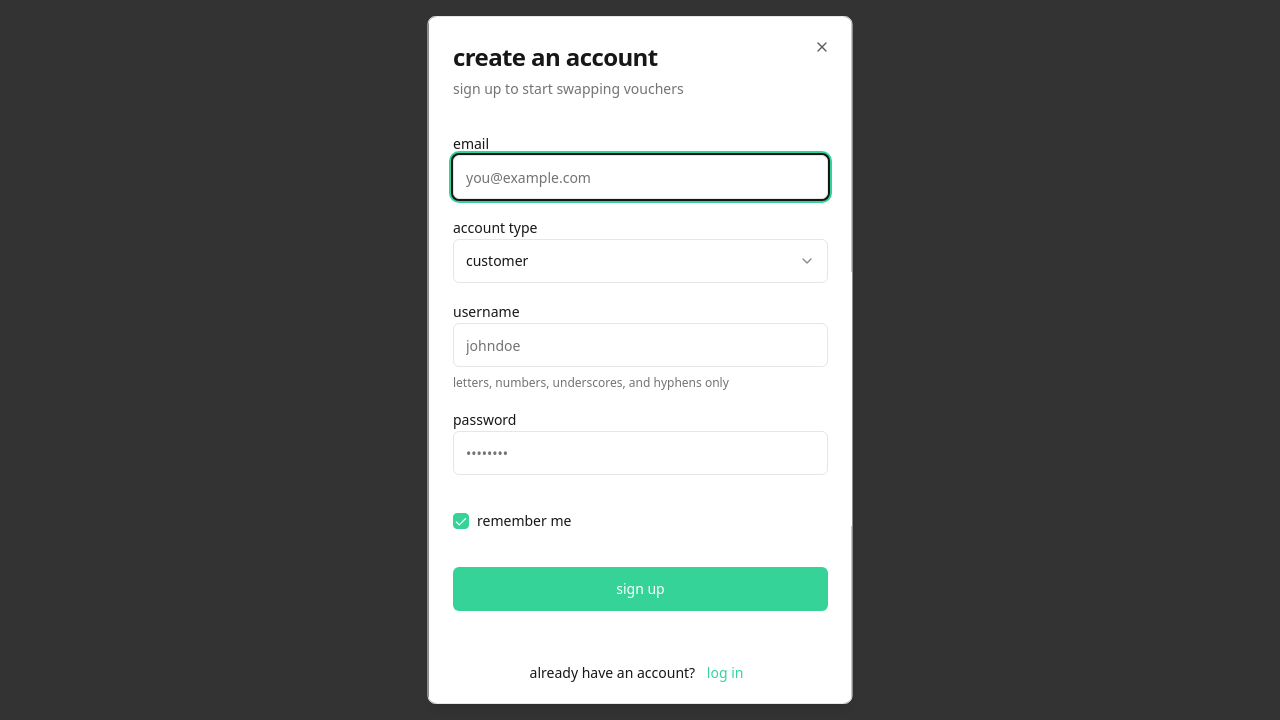
Test: AuthModal › requires passwords to have at least eight characters
Type "new@example.com" into the field labelled "email" at (640, 177), box [452,155,828,199]
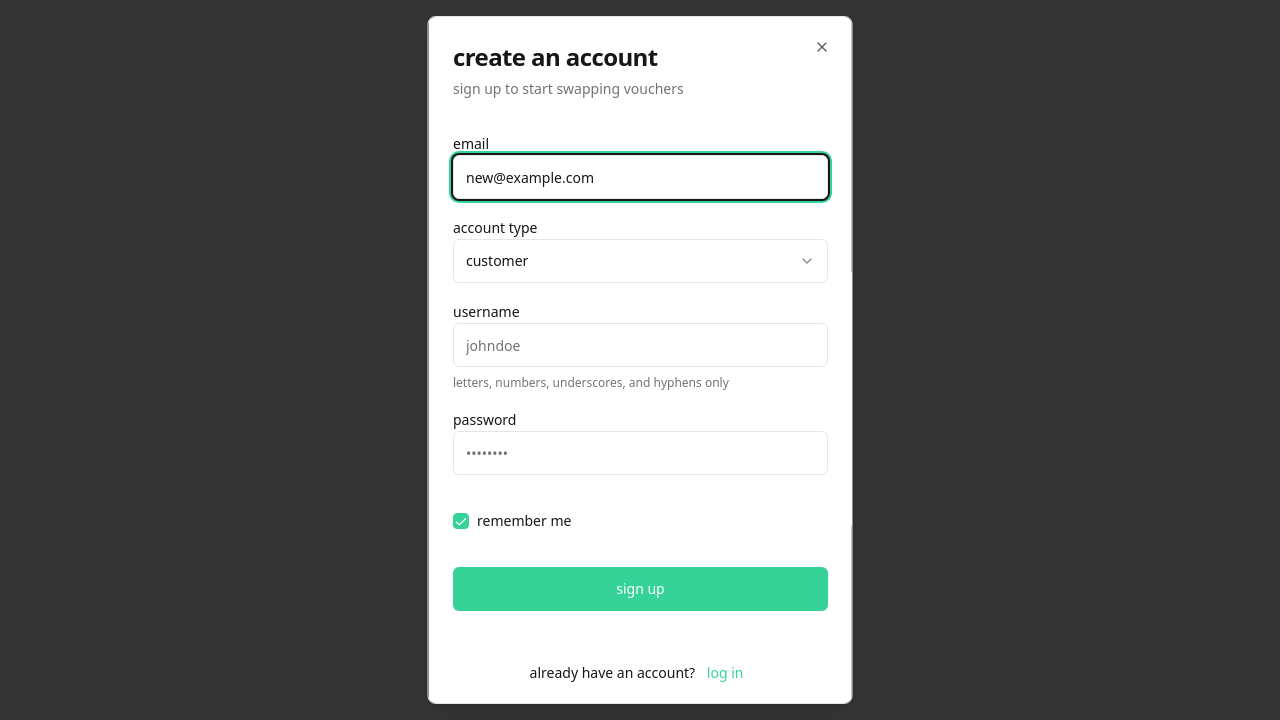
Type "newuser" into the field labelled "username" at (640, 345), box [452,323,828,367]
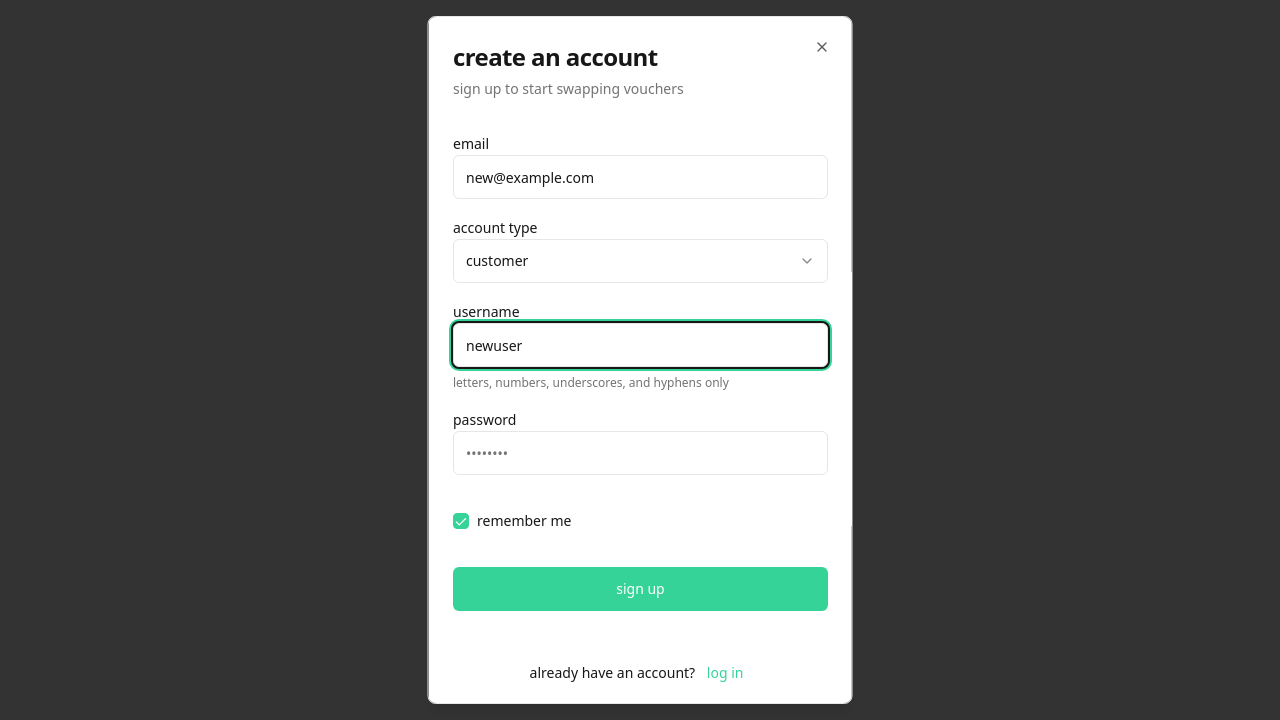
Type "1234567" into the password field labelled "password" at (640, 453), box [452,431,828,475]
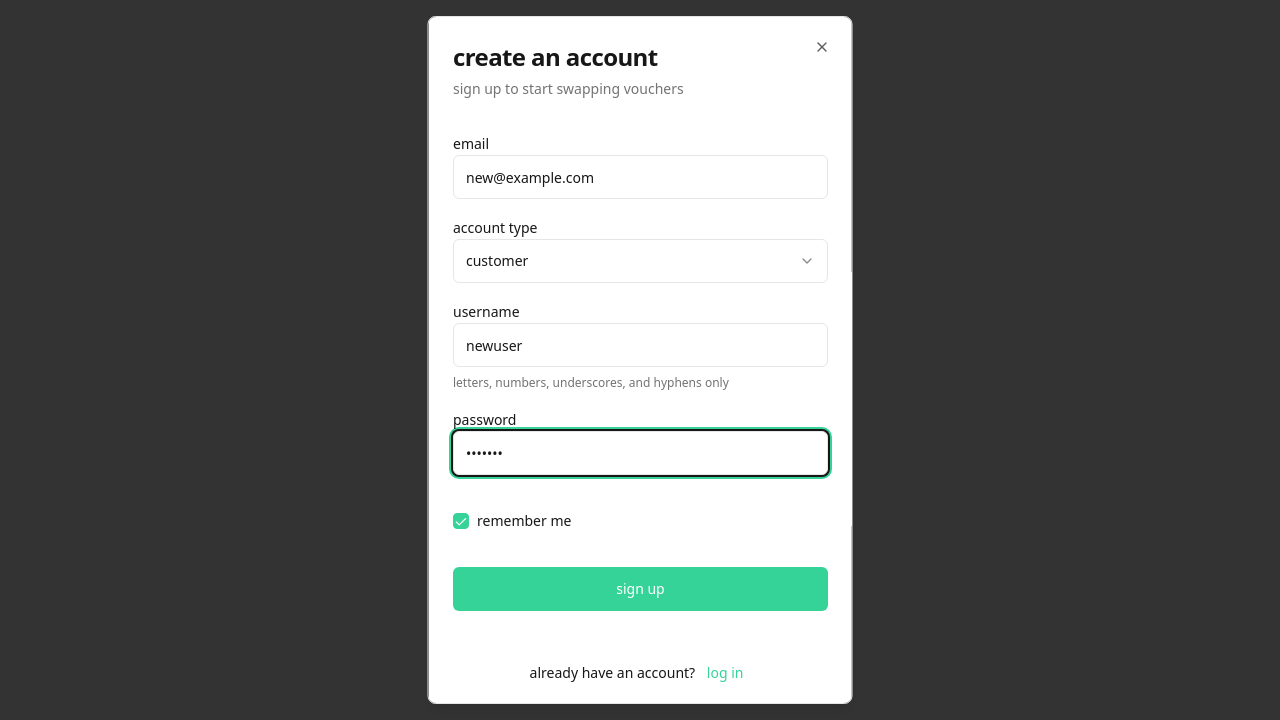
Submit the form, box [452,115,828,627]
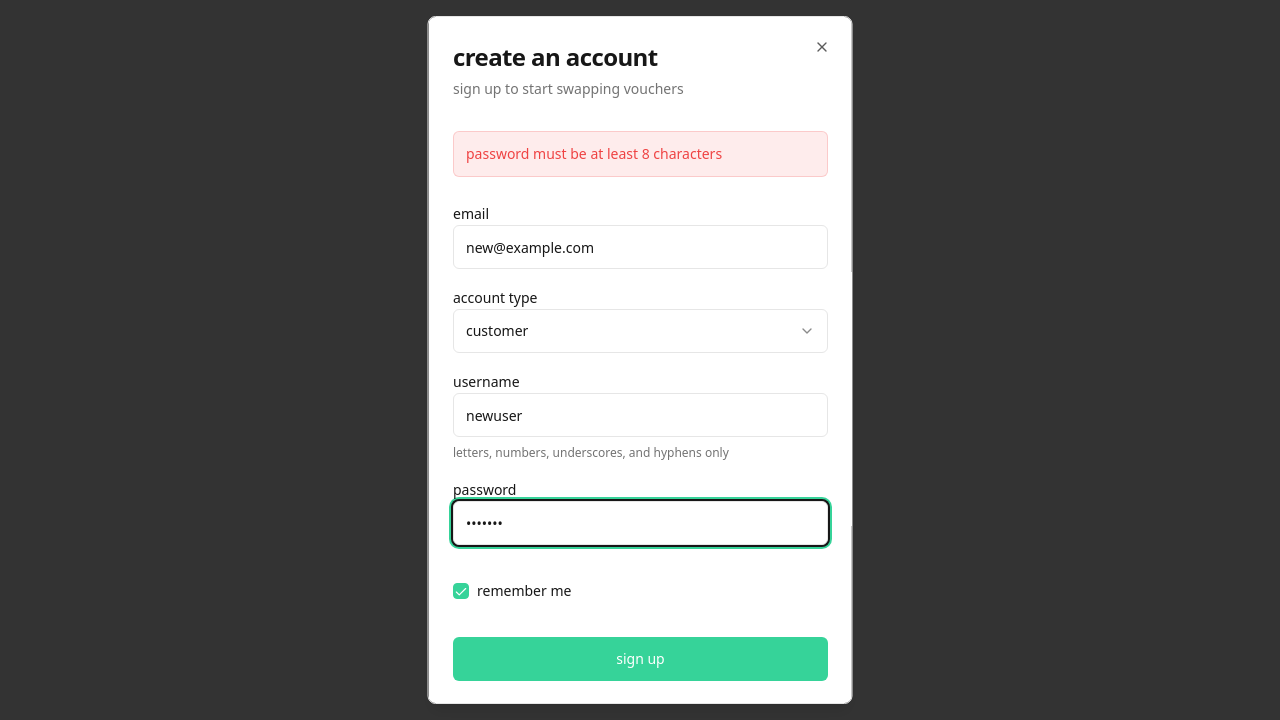
Expected: the text "Password must be at least 8 characters" is shown, [466,144,722,163]
